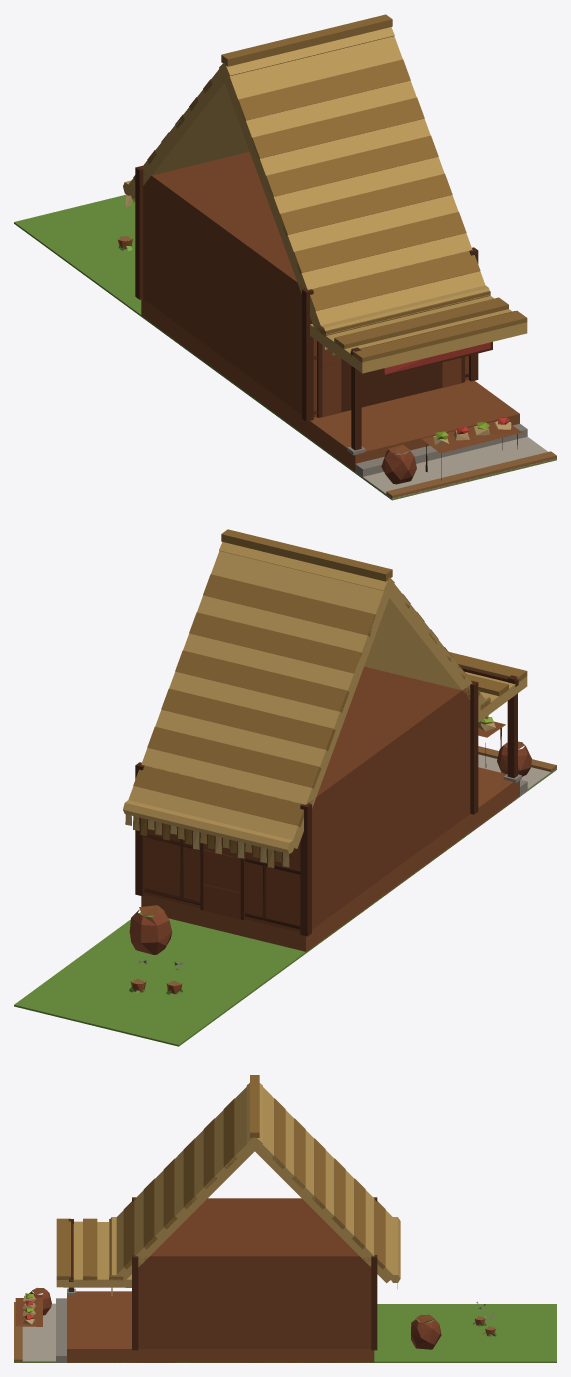
Rendered from bay1_mid.glb.
3 renders of one model, top to bottom at view 1: azimuth 30°, elevation 25°; view 2: azimuth 150°, elevation 25°; view 3: azimuth 270°, elevation 25°, orthographic. The views are drawn at different scales.
Visible parts, largest first — view 1: body; view 2: body; view 3: body.
Part boxes in pixels (bbox=[...]): body: bbox=[14, 14, 556, 500]; body: bbox=[14, 529, 556, 1046]; body: bbox=[14, 1075, 556, 1362].
Size of the model in its own units: 4.18 by 7.66 by 15.9.
